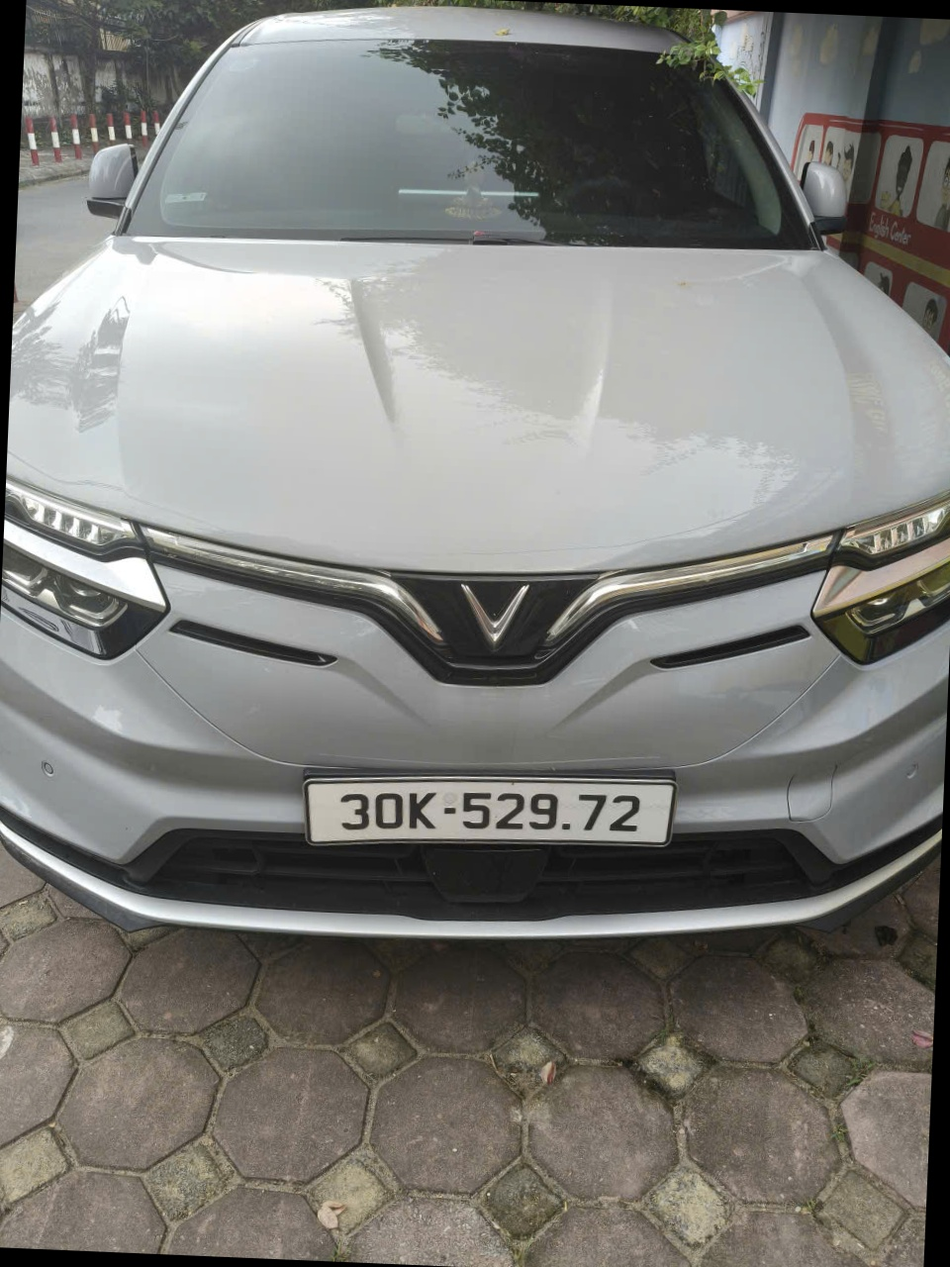plate: (35, 526, 110, 552)
